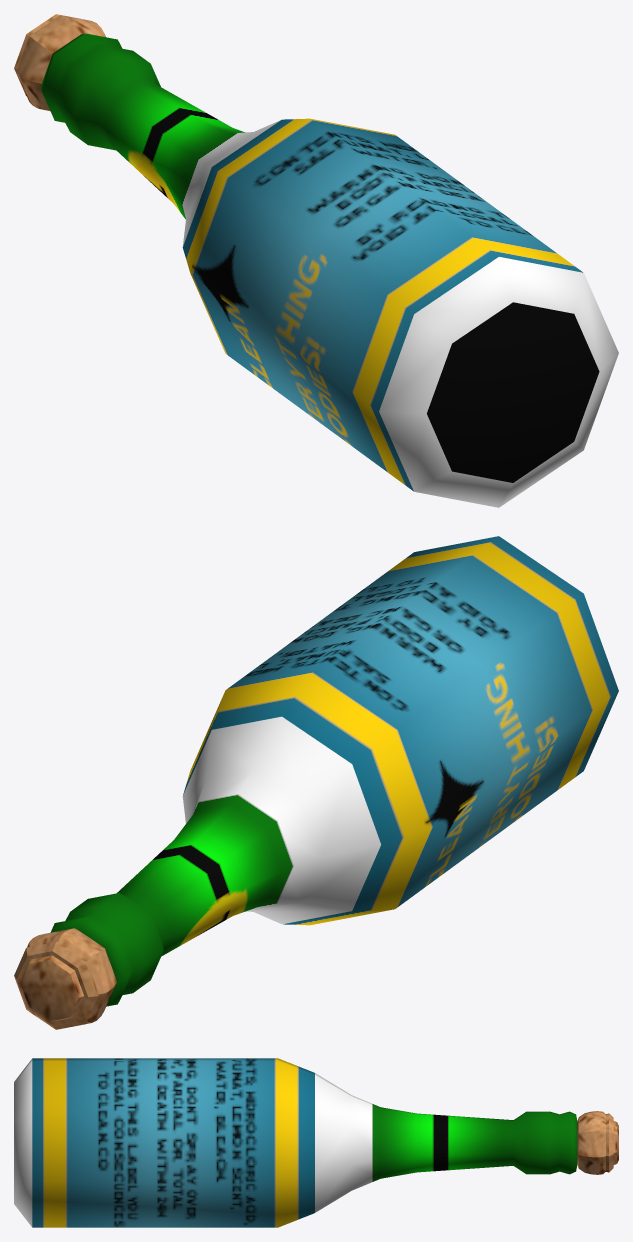
Rendered from Bottle.fbx.
3 views of the same model, one above another, from view 1: azimuth 30°, elevation 25°; view 2: azimuth 150°, elevation 25°; view 3: azimuth 270°, elevation 25° (orthographic). The views are drawn at different scales.
Parts seen in each view (by area): view 1: Bottle, Cork; view 2: Bottle, Cork; view 3: Bottle, Cork.
Part boxes in pixels (x1=…): Bottle: x1=41, y1=33, x2=618, y2=507; Cork: x1=14, y1=14, x2=105, y2=110; Bottle: x1=50, y1=536, x2=618, y2=1006; Cork: x1=14, y1=928, x2=116, y2=1029; Bottle: x1=14, y1=1058, x2=577, y2=1227; Cork: x1=577, y1=1111, x2=618, y2=1174.
Size of the model in its own units: 20 by 20 by 67.09.
